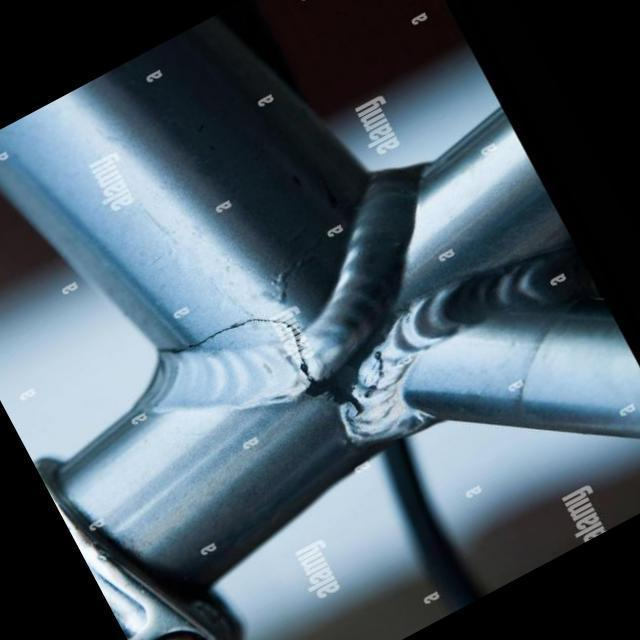defect: (145, 312, 316, 383), (359, 342, 389, 400)
